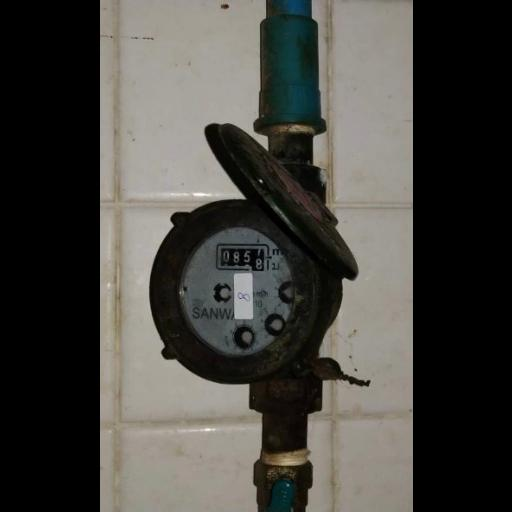0: (219, 247, 231, 266)
5: (242, 249, 253, 266)
7: (252, 248, 264, 271)
8: (230, 248, 241, 267)
border_water_meter_number: (216, 244, 269, 271)
